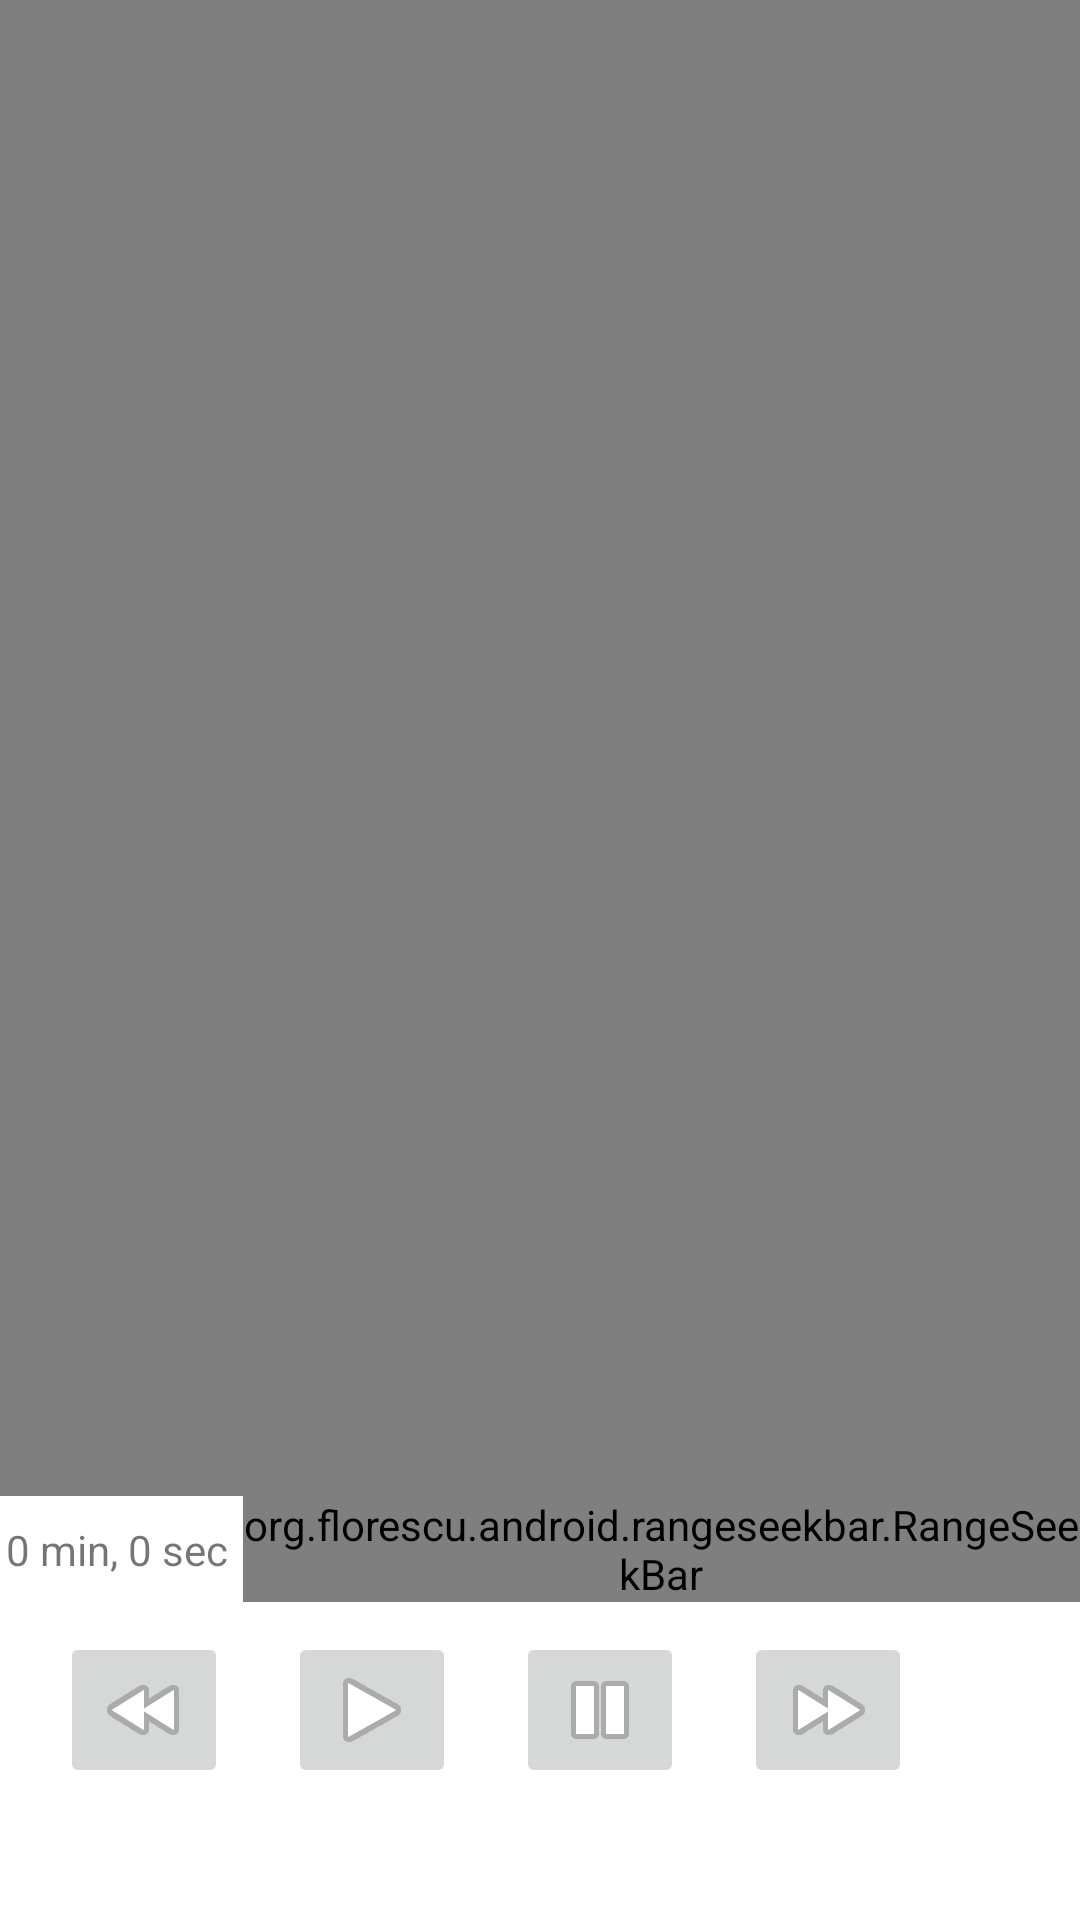

Icons on this 1080*1920 Android screen, each with the point to tap as (x,y):
pause: (600,1710)
play: (372,1710)
rew: (144,1710)
